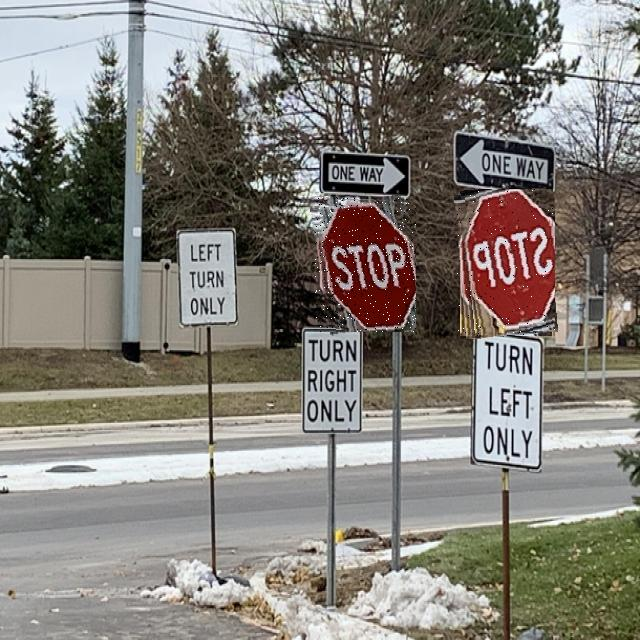stop: (457, 189, 555, 338), (315, 197, 416, 332)
